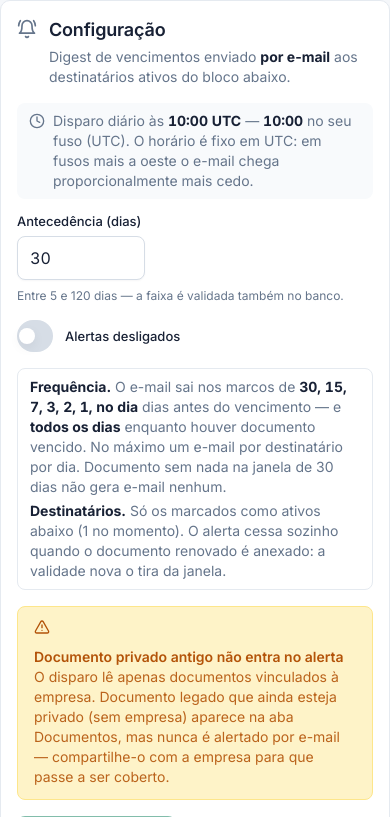
Test: a antecedência persiste com o alerta DESLIGADO › o botão de salvar só fica ativo quando há alteração pendente
Expected: the heading "Configuração" is shown, [49,19,166,40]
Replace the text in the number field labelled "Antecedência (dias)" with "45" at (81, 258), box [17,236,145,280]
(page scrolled)
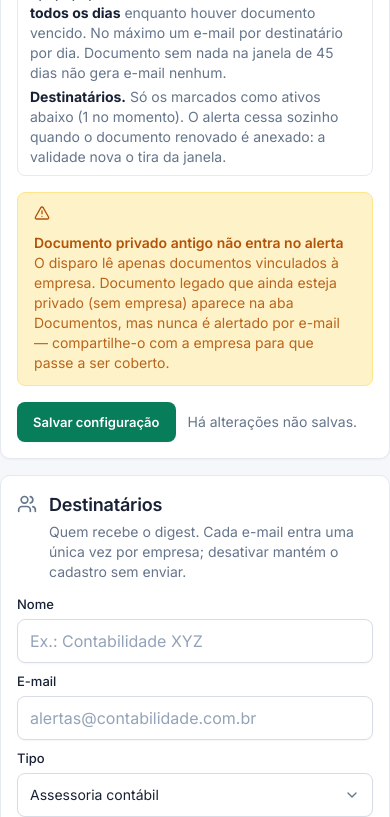
Expected: the text "Há alterações não salvas." is shown, [188,412,357,432]
Expected: the button "Salvar configuração" is enabled, [17,402,176,442]
